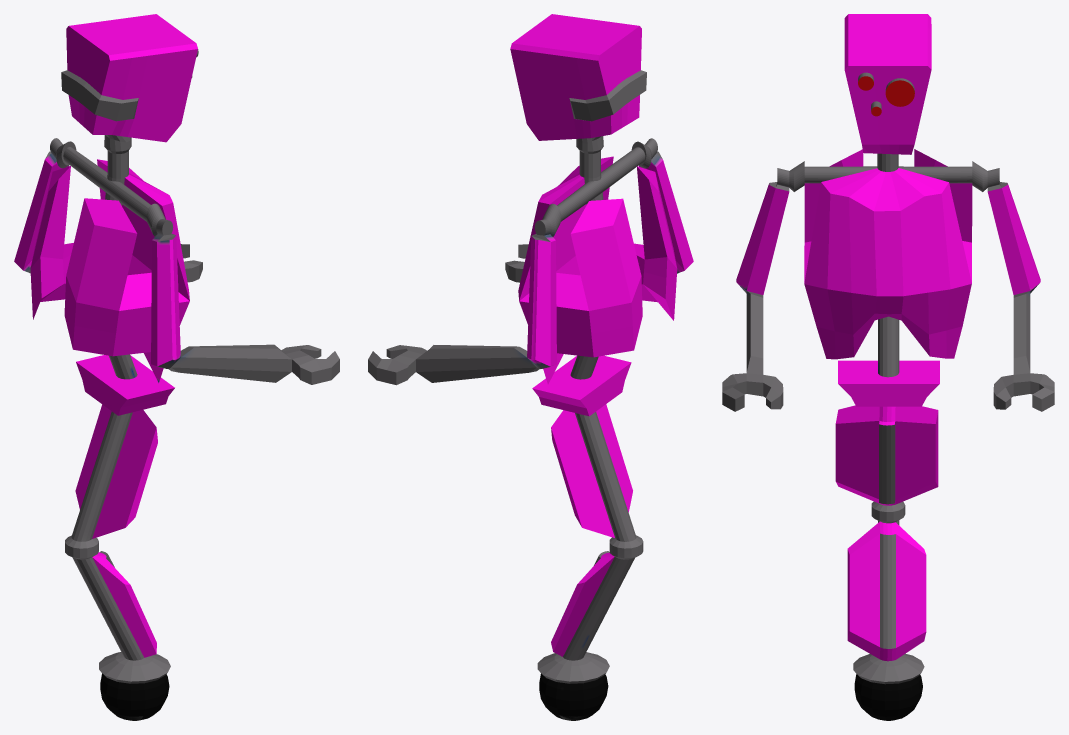
Rendered from player_pink.obj.
3 renders of one model, left to right at view 1: azimuth 30°, elevation 25°; view 2: azimuth 150°, elevation 25°; view 3: azimuth 270°, elevation 25°, orthographic.
Visible parts, largest first — view 1: Sphere_Sphere.002; view 2: Sphere_Sphere.002; view 3: Sphere_Sphere.002.
Boxes of the visible parts, x1,y1,x2,y2 form: Sphere_Sphere.002: (14, 14, 339, 720); Sphere_Sphere.002: (368, 14, 693, 720); Sphere_Sphere.002: (722, 14, 1054, 720).
Size of the model in its own units: 6.9 by 21.73 by 9.61.
1 material, 1 textured.
